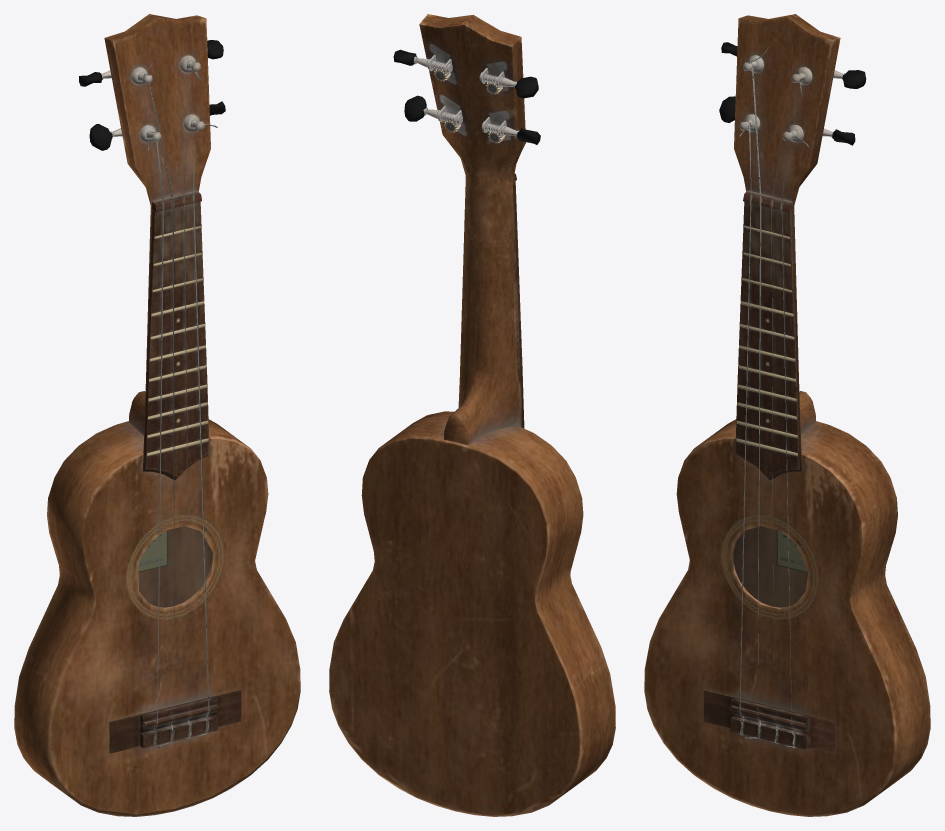
Rendered from Ukulele_01.glb.
The picture shows the model from 3 angles, left to right: view 1: azimuth 30°, elevation 25°; view 2: azimuth 150°, elevation 25°; view 3: azimuth 330°, elevation 25°; orthographic projection.
Visible parts, largest first — view 1: Ukulele_01; view 2: Ukulele_01; view 3: Ukulele_01.
Part boxes in pixels (x1,y1,x2,y2): Ukulele_01: (14, 14, 300, 816); Ukulele_01: (329, 14, 615, 816); Ukulele_01: (644, 14, 930, 816).
Size of the model in its own units: 0.1779 by 0.527 by 0.0507.
1 material, 1 textured.
